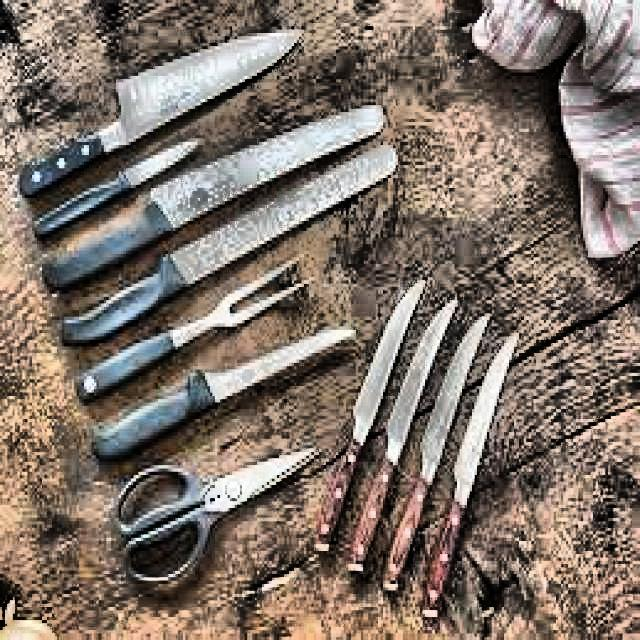knife: (36, 83, 412, 306), (59, 140, 408, 356), (12, 20, 310, 184), (94, 304, 368, 478), (305, 265, 428, 577), (377, 300, 494, 604), (340, 293, 464, 576), (36, 126, 210, 252), (449, 322, 523, 616)
